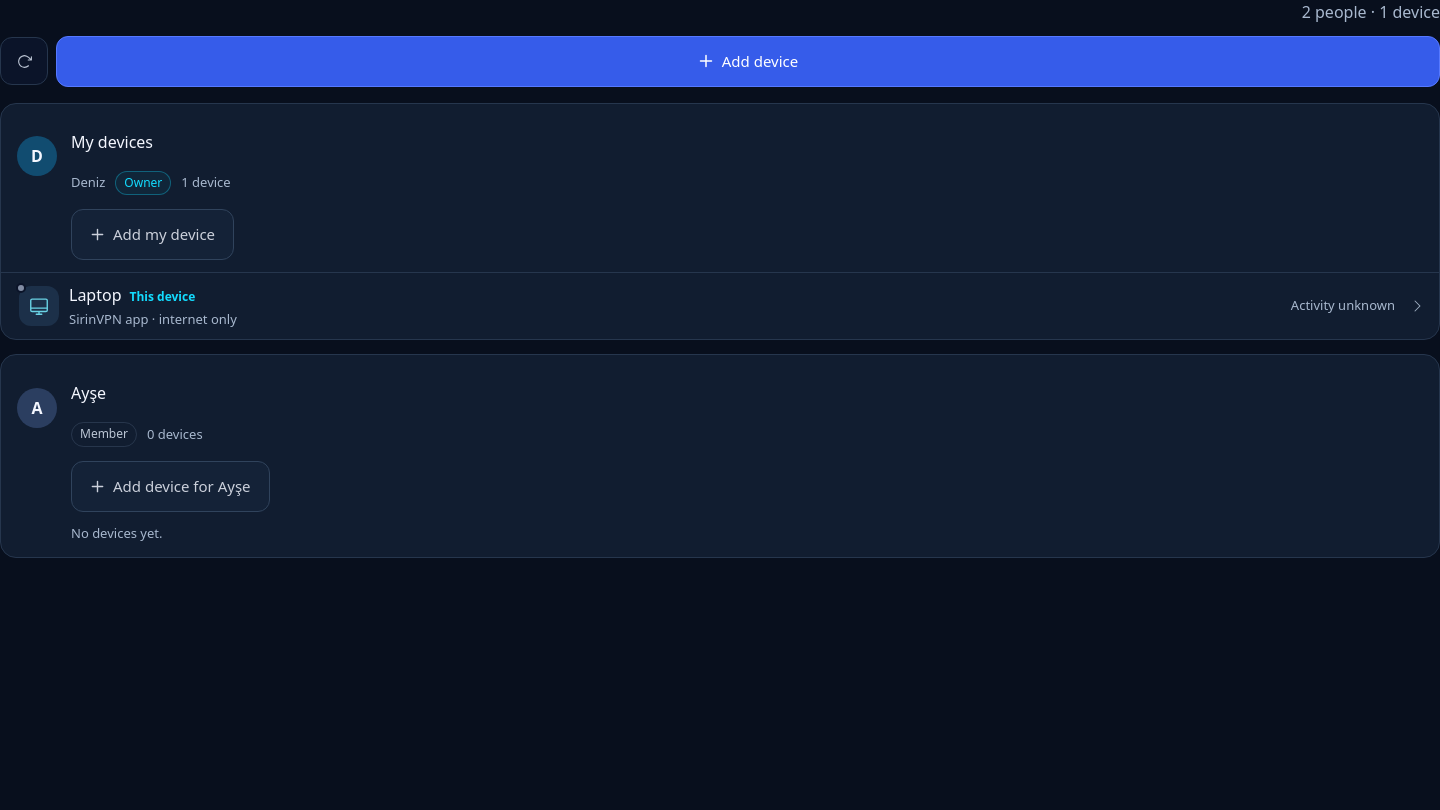
Test case: shows a taken person name in the rename field, not as a join-code conflict
Click the button with test id "open-person" showing "Ayşe" at (89, 393), box [71,369,106,417]
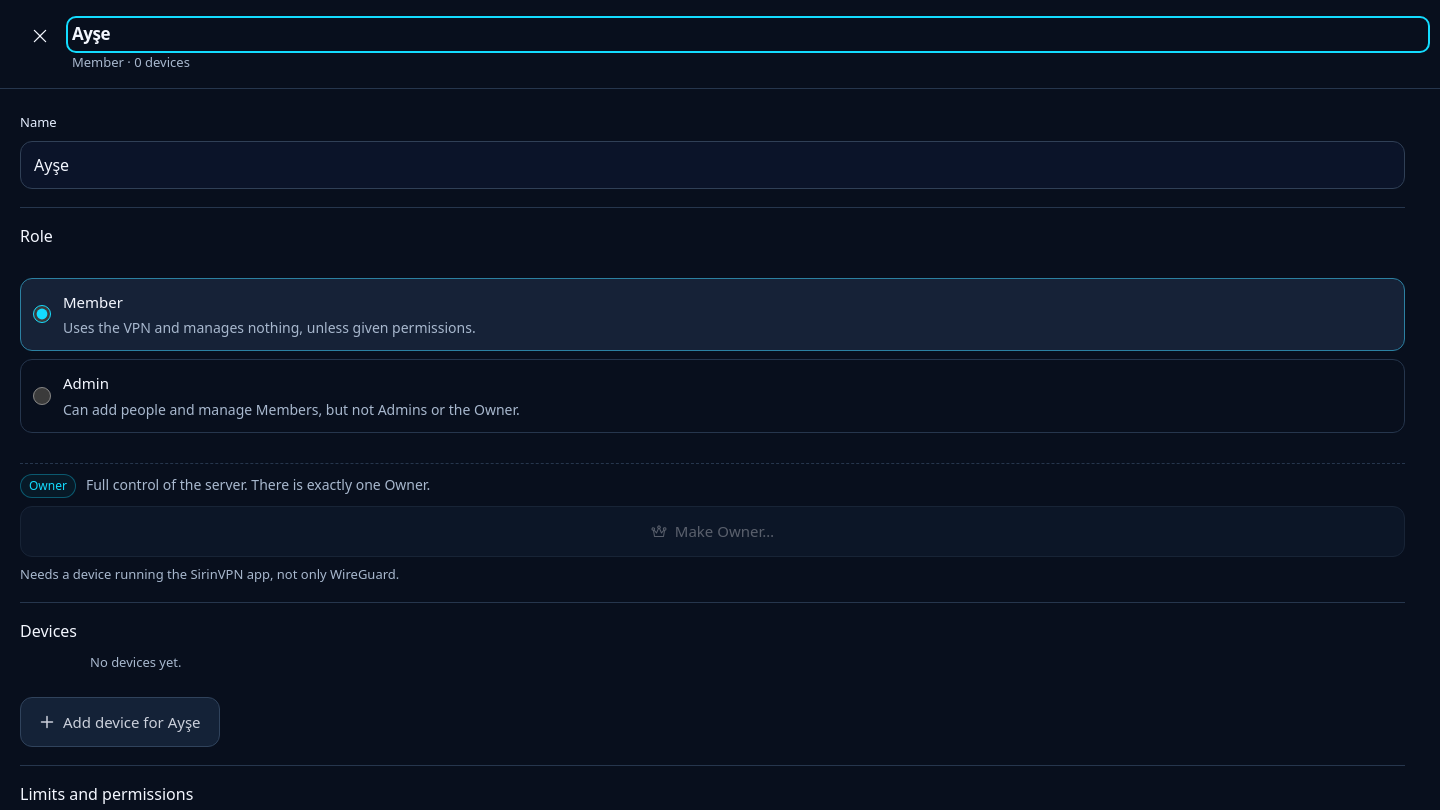
Replace the text in the field showing "Ayşe" with "You" at (712, 165), box [20,141,1405,189]
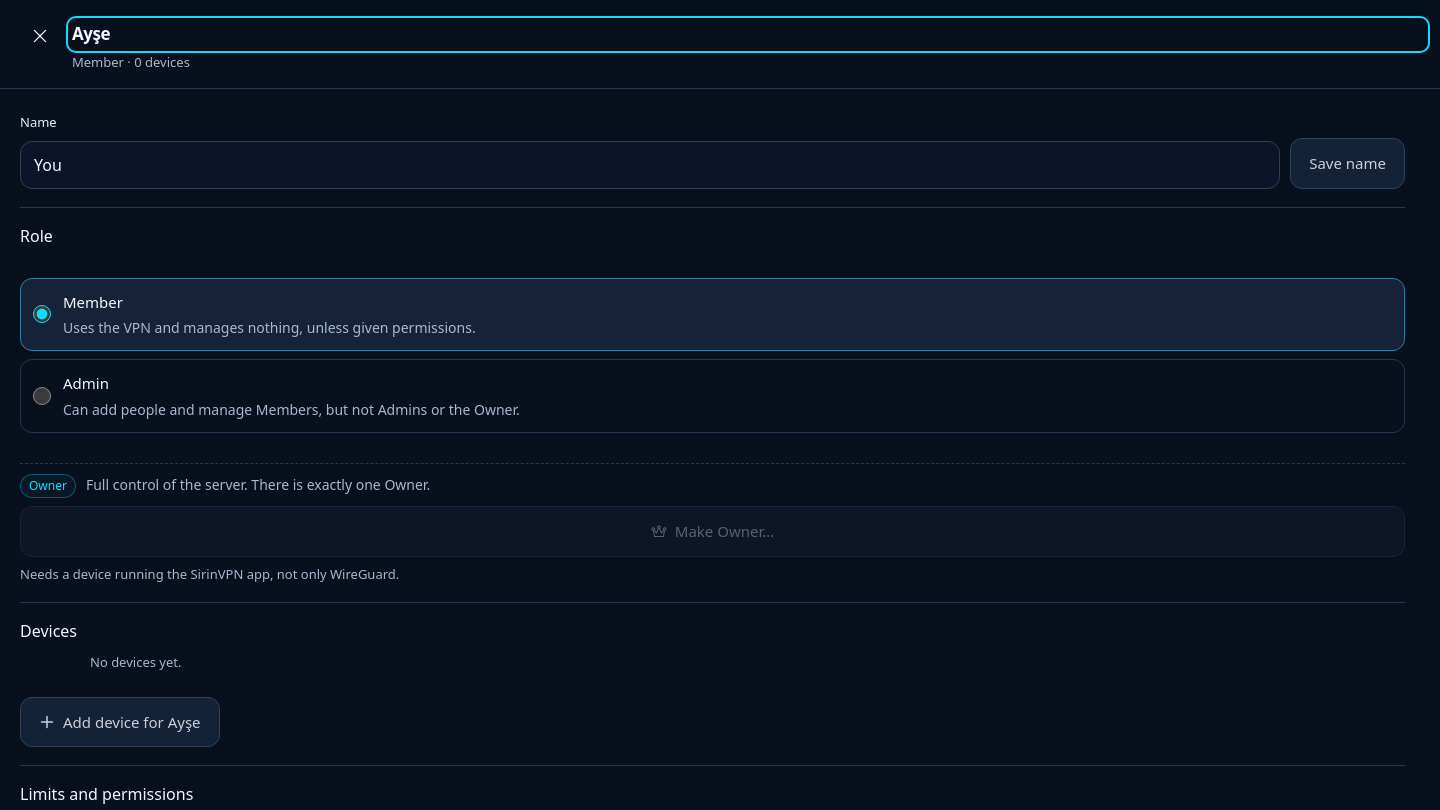
Click the button with test id "rename-person" at (1348, 163), box [1290,138,1405,189]
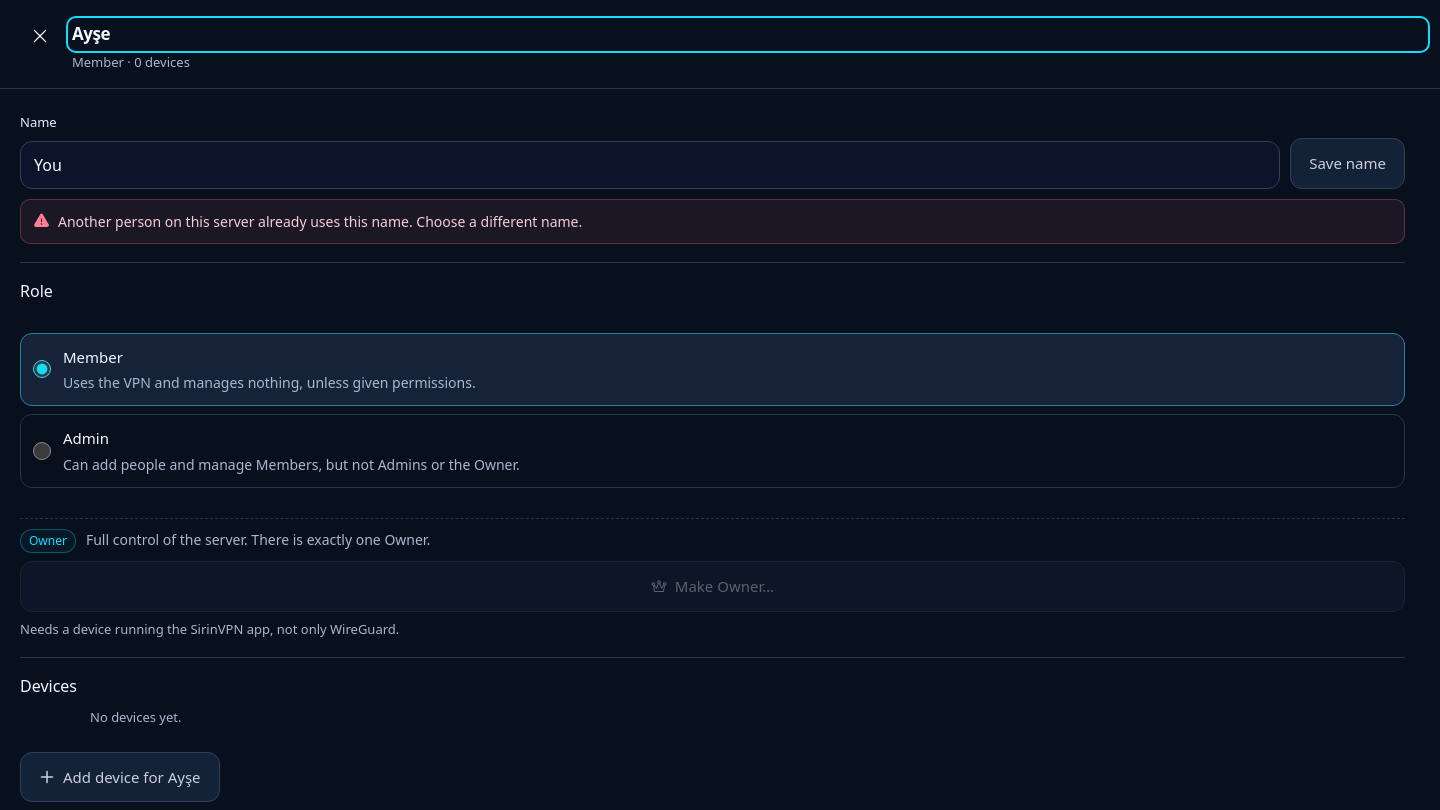
Expected: the text "Another person on this server already uses this name. Choose a different name." is shown, [58,212,582,231]
